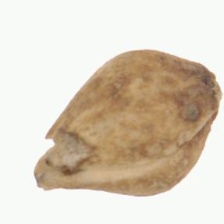L1: (32, 126, 81, 191), (199, 62, 221, 132)
L2: (34, 49, 221, 198)
